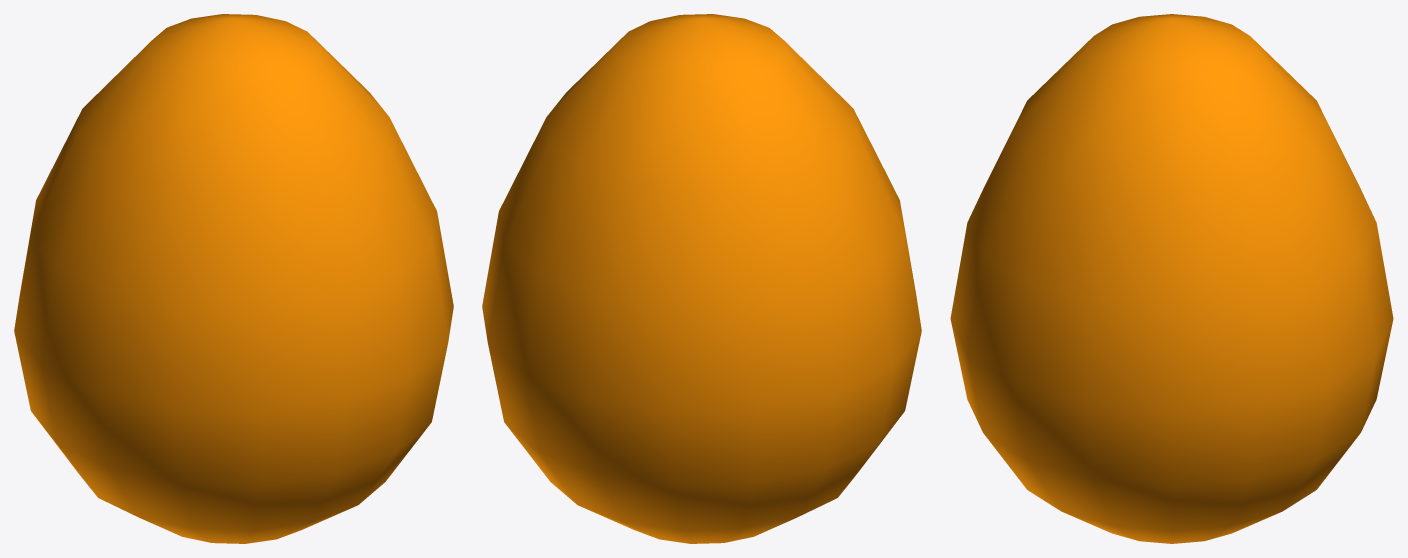
File: eggOrange.glb
The picture shows the model from 3 angles, left to right: view 1: azimuth 30°, elevation 25°; view 2: azimuth 150°, elevation 25°; view 3: azimuth 270°, elevation 25°; orthographic projection.
Visible parts, largest first — view 1: Sphere001; view 2: Sphere001; view 3: Sphere001.
Part boxes in pixels (x1,y1,x2,y2): Sphere001: (14, 14, 453, 543); Sphere001: (482, 14, 921, 543); Sphere001: (950, 14, 1393, 543).
Size of the model in its own units: 0.1403 by 0.1761 by 0.1403.
